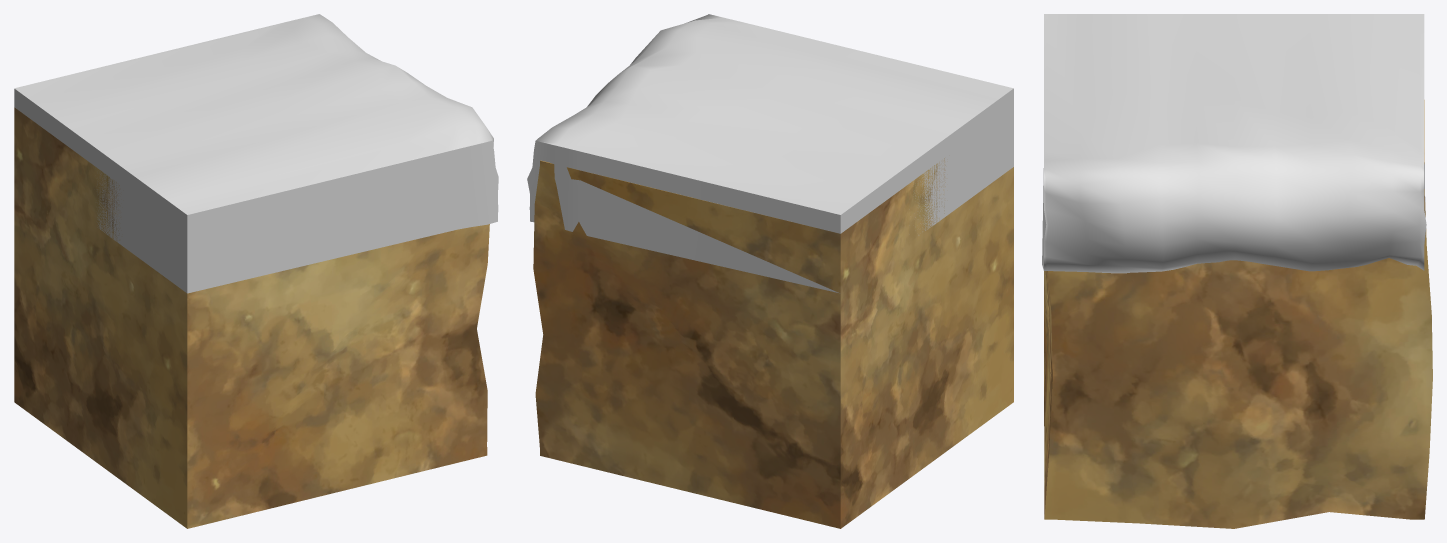
File: DirtSnowWall.fbx
3 views of the same model, side by side, from view 1: azimuth 30°, elevation 25°; view 2: azimuth 150°, elevation 25°; view 3: azimuth 270°, elevation 25° (orthographic). The views are drawn at different scales.
Parts seen in each view (by area): view 1: DirtWall.001, SnowWall.001; view 2: DirtWall.001, SnowWall.001; view 3: DirtWall.001, SnowWall.001.
Boxes of the visible parts, bbox=[...] form: DirtWall.001: bbox=[14, 107, 489, 528]; SnowWall.001: bbox=[14, 14, 498, 293]; DirtWall.001: bbox=[533, 158, 1013, 528]; SnowWall.001: bbox=[527, 14, 1013, 293]; DirtWall.001: bbox=[1044, 100, 1432, 528]; SnowWall.001: bbox=[1042, 14, 1426, 273].
Bounding box in the file's own units: 225 × 209 × 206.
